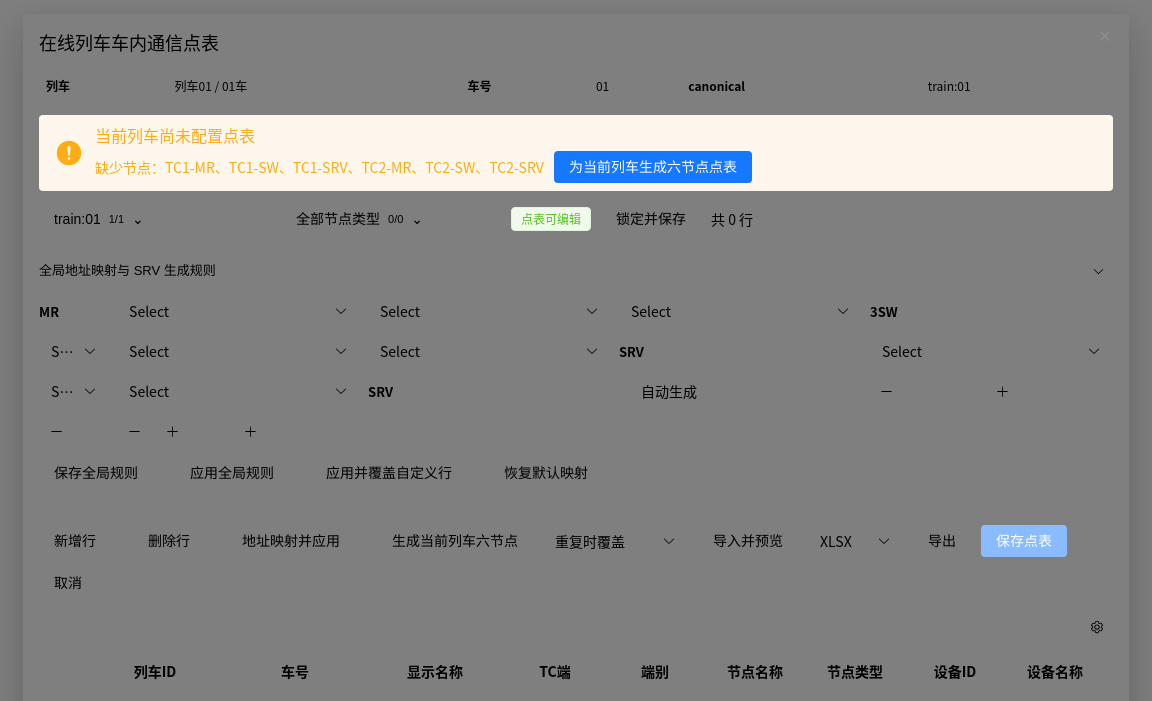
Test: 在线列车车内通信点表 Dialog › 以实际预览行数为准并记录后端计数不一致
Click the button "为当前列车生成六节点点表": [653, 167] box x1=554 y1=151 x2=752 y2=183
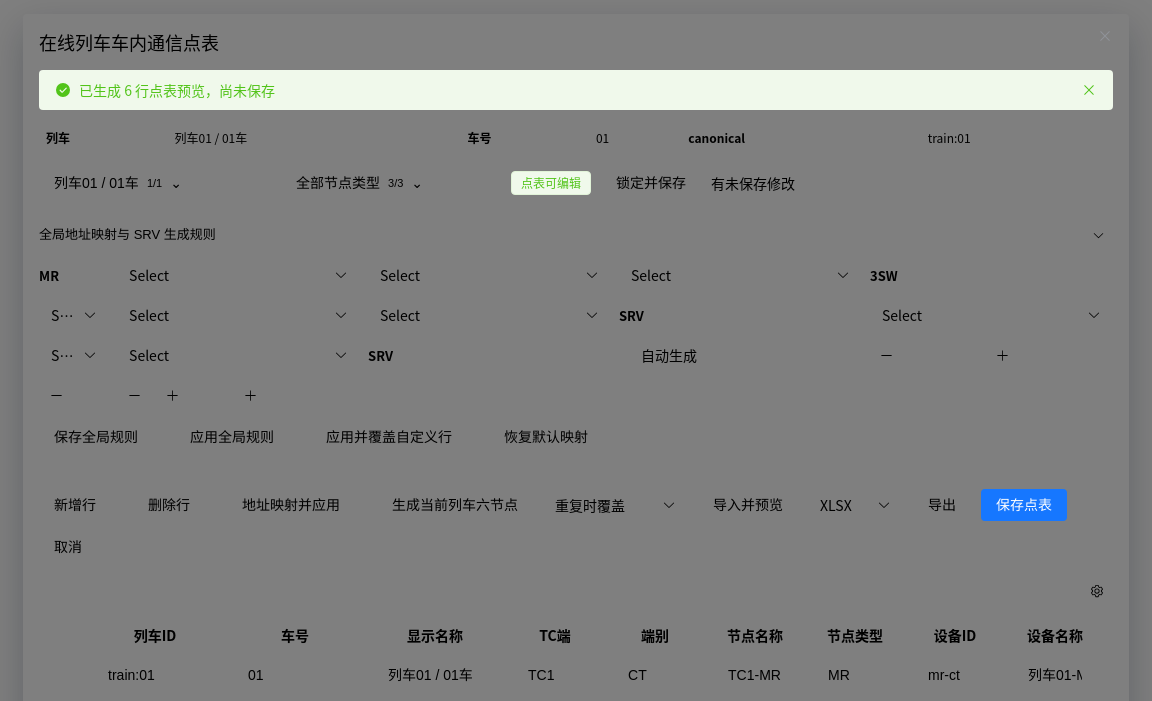
expect the text "已生成 6 行点表预览，尚未保存" is shown: met, box x1=79 y1=78 x2=275 y2=102
